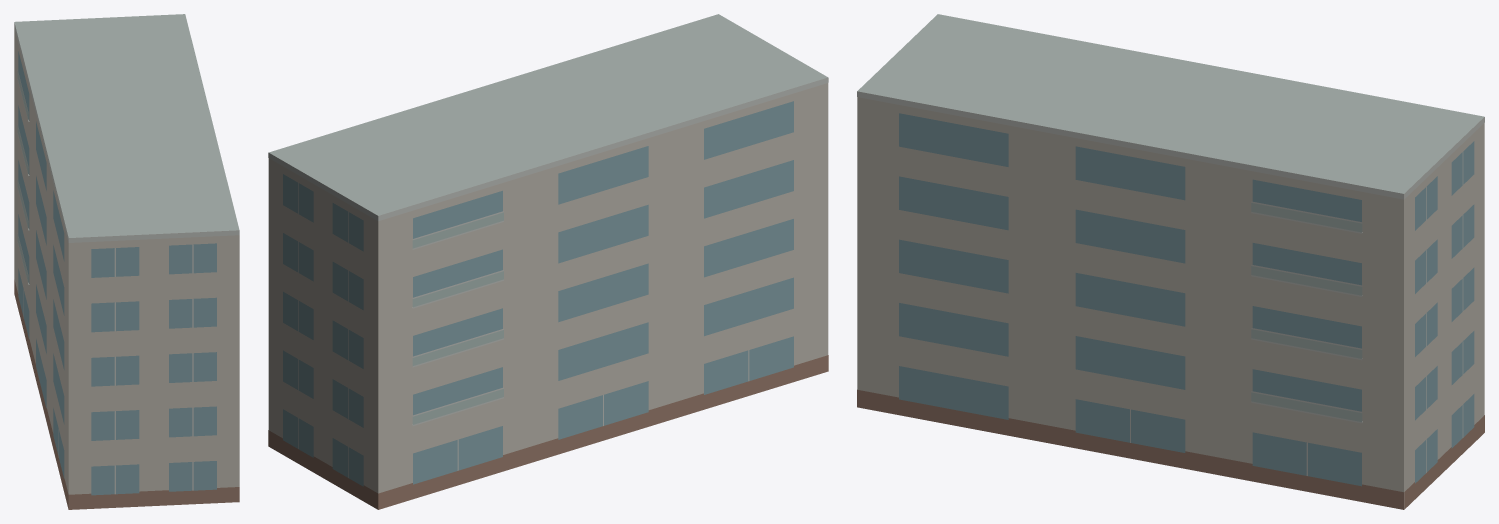
File: survey-upis-32671273.glb
3 views of the same model, side by side, from view 1: azimuth 30°, elevation 25°; view 2: azimuth 150°, elevation 25°; view 3: azimuth 270°, elevation 25° (orthographic). The views are drawn at different scales.
Visible parts, largest first — view 1: survey-upis-32671273.tmp; view 2: survey-upis-32671273.tmp; view 3: survey-upis-32671273.tmp.
Boxes of the visible parts, left/top/right/bottom form: survey-upis-32671273.tmp: left=14, top=14, right=239, bottom=509; survey-upis-32671273.tmp: left=268, top=14, right=828, bottom=509; survey-upis-32671273.tmp: left=857, top=14, right=1484, bottom=509.
Size of the model in its own units: 16.37 by 13.4 by 24.13.
